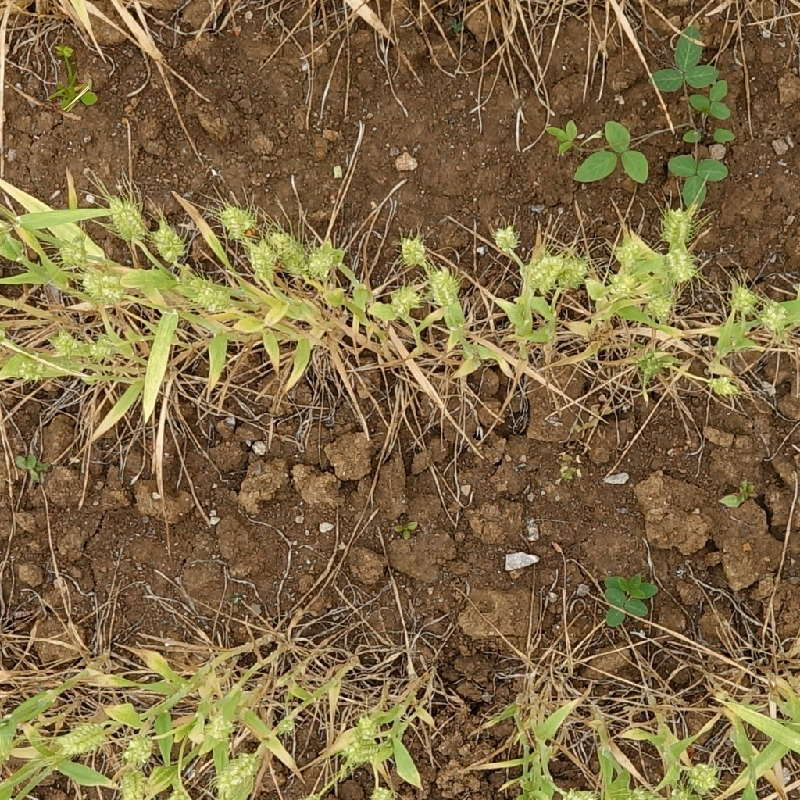spikelet: (214, 751, 259, 799), (106, 194, 147, 243), (55, 720, 108, 756), (269, 230, 309, 277), (80, 267, 125, 303), (151, 221, 188, 263), (525, 252, 561, 294), (426, 265, 460, 307), (659, 204, 693, 245), (663, 244, 698, 283), (219, 203, 255, 239), (684, 759, 720, 794), (306, 242, 342, 277), (556, 255, 589, 290), (248, 240, 276, 280), (341, 737, 380, 765), (756, 299, 789, 332), (121, 733, 154, 765), (117, 766, 148, 800), (606, 268, 639, 299), (728, 282, 758, 316), (56, 238, 88, 269), (398, 234, 428, 267), (203, 710, 233, 742), (389, 284, 420, 314), (613, 237, 643, 266), (89, 333, 119, 361), (492, 223, 520, 252), (705, 372, 737, 397), (354, 714, 381, 743), (636, 349, 663, 378), (51, 329, 80, 356), (273, 706, 299, 736), (17, 358, 46, 382), (621, 784, 660, 800), (556, 787, 604, 800), (367, 784, 397, 800), (668, 785, 696, 800)
weed: (653, 26, 735, 126), (546, 118, 651, 185), (47, 43, 100, 113), (598, 571, 660, 628), (668, 153, 730, 206), (14, 454, 53, 491), (718, 479, 759, 508), (394, 522, 418, 540)
